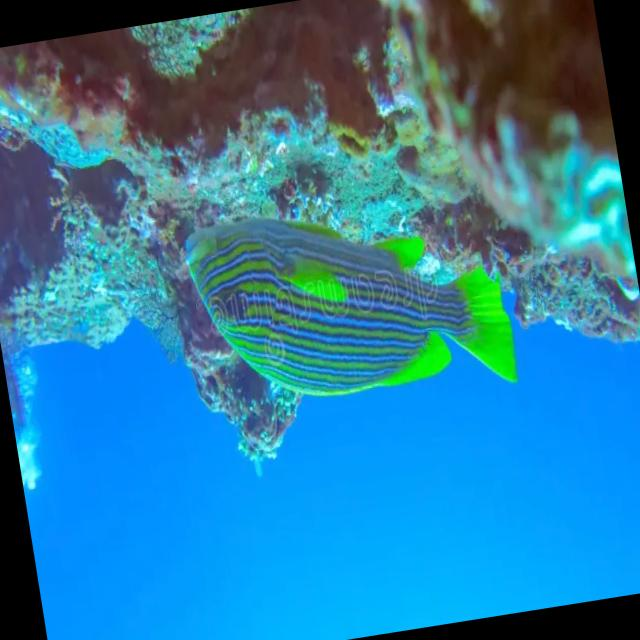RibbonedSweetlips: (177, 176, 522, 434)
